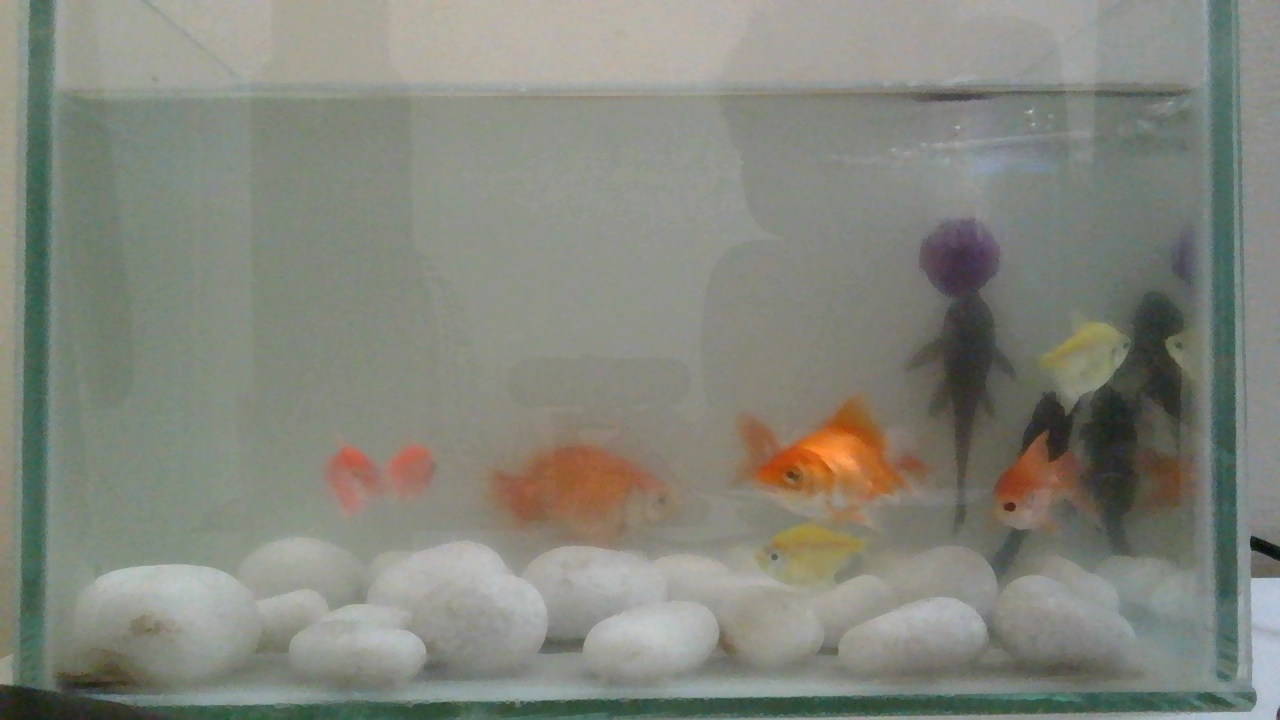fish: (733, 391, 919, 513), (489, 435, 677, 547), (322, 436, 434, 517), (757, 517, 876, 591), (384, 438, 439, 506)
